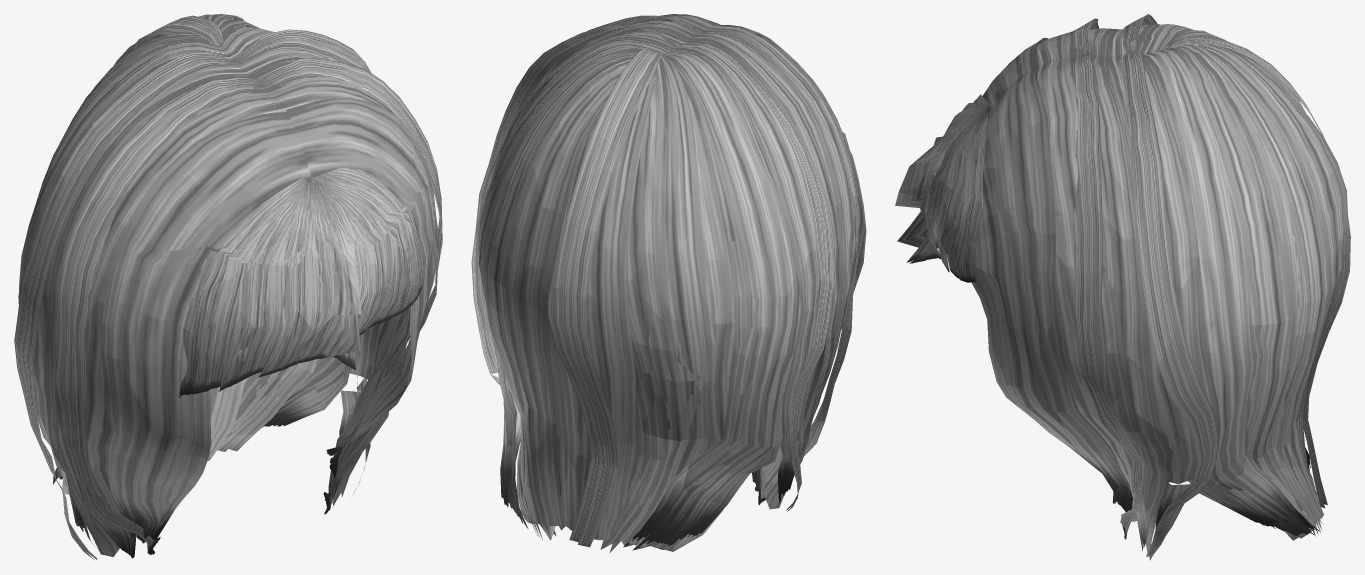
The model's file is daz_hair_wolf_clavicle.glb.
The picture shows the model from 3 angles, left to right: view 1: azimuth 30°, elevation 25°; view 2: azimuth 150°, elevation 25°; view 3: azimuth 270°, elevation 25°; orthographic projection. The views are drawn at different scales.
Parts seen in each view (by area): view 1: daz_hair_wolf_clavicle; view 2: daz_hair_wolf_clavicle; view 3: daz_hair_wolf_clavicle.
Part boxes in pixels (x1=…): daz_hair_wolf_clavicle: x1=14, y1=14, x2=442, y2=560; daz_hair_wolf_clavicle: x1=471, y1=14, x2=866, y2=552; daz_hair_wolf_clavicle: x1=895, y1=14, x2=1350, y2=560.
Size of the model in its own units: 0.2045 by 0.2569 by 0.2233.
1 material, 1 textured.
